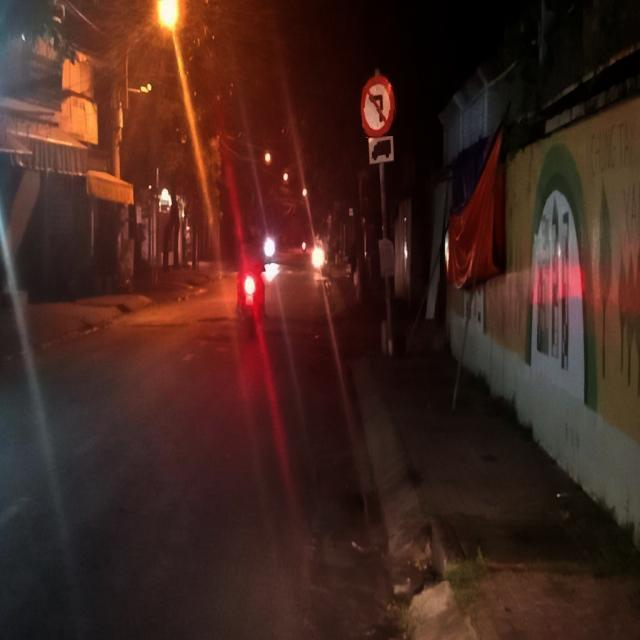123a-cam-re-trai: (358, 78, 394, 138)
